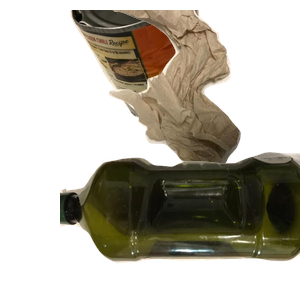glass: (94, 184, 253, 300)
metal: (68, 10, 265, 131)
plastic: (60, 149, 300, 300)
trash: (103, 10, 300, 173)
